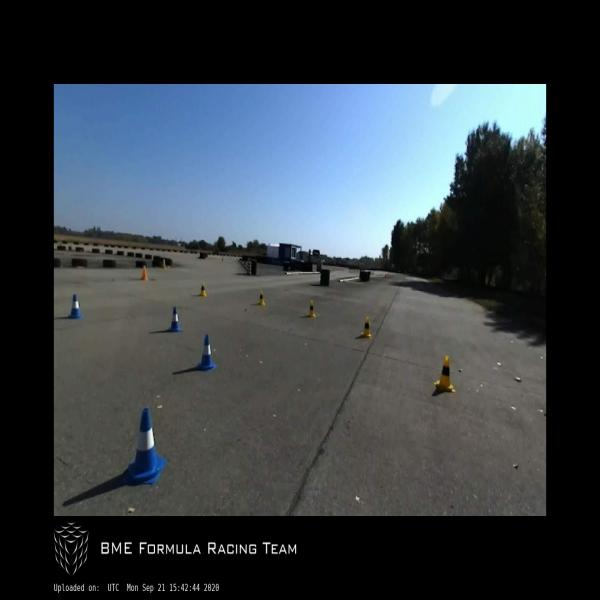blue_cone: (123, 407, 166, 486), (195, 334, 217, 372), (67, 294, 82, 319), (167, 306, 181, 332)
yellow_cone: (434, 356, 456, 392), (360, 317, 372, 338), (308, 300, 315, 318), (258, 290, 265, 305), (199, 282, 206, 296)
